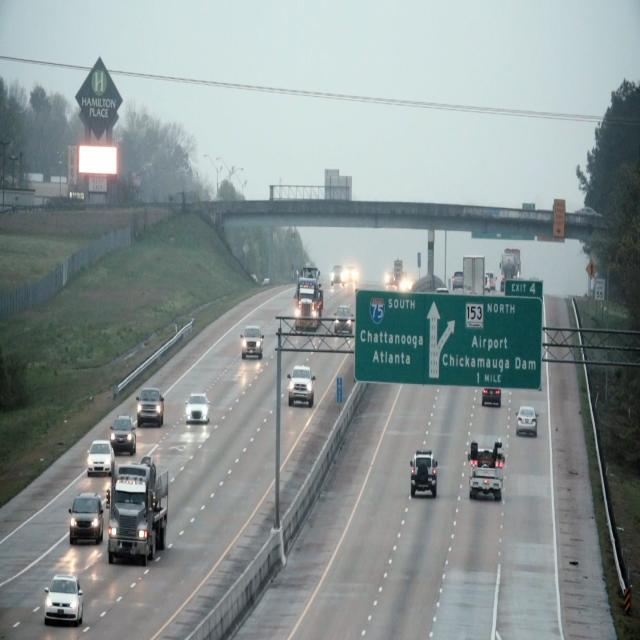16-Wheelers: (105, 456, 169, 565)
Car: (42, 574, 83, 626), (408, 448, 438, 497), (285, 364, 315, 407), (134, 387, 164, 427), (239, 325, 264, 359), (184, 392, 210, 423), (515, 406, 537, 436)
Traffic-sign: (353, 288, 543, 389)
Truck: (466, 438, 505, 501)
